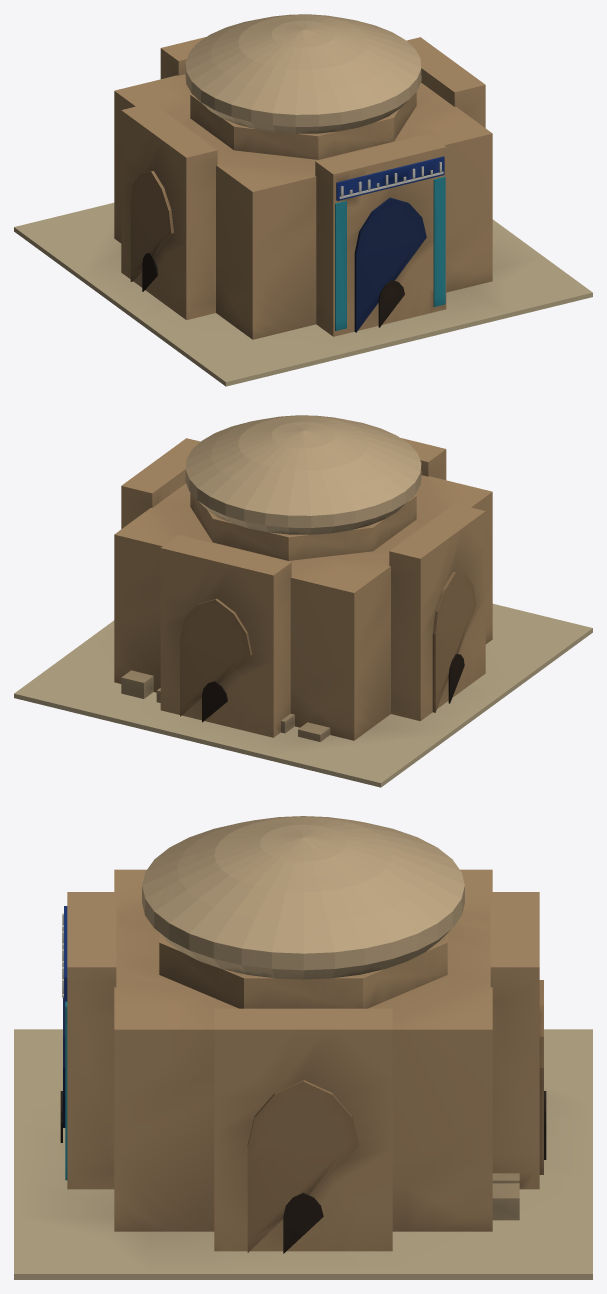
File: ak-saray.glb
The picture shows the model from 3 angles, top to bottom: view 1: azimuth 30°, elevation 25°; view 2: azimuth 150°, elevation 25°; view 3: azimuth 270°, elevation 25°; orthographic projection. The views are drawn at different scales.
Visible parts, largest first — view 1: p0_body; view 2: p0_body; view 3: p0_body.
Part boxes in pixels (left/top/right/bottom): p0_body: left=14, top=14, right=592, bottom=386; p0_body: left=14, top=415, right=592, bottom=787; p0_body: left=14, top=816, right=592, bottom=1279.
Size of the model in its own units: 26 by 15.86 by 26.
